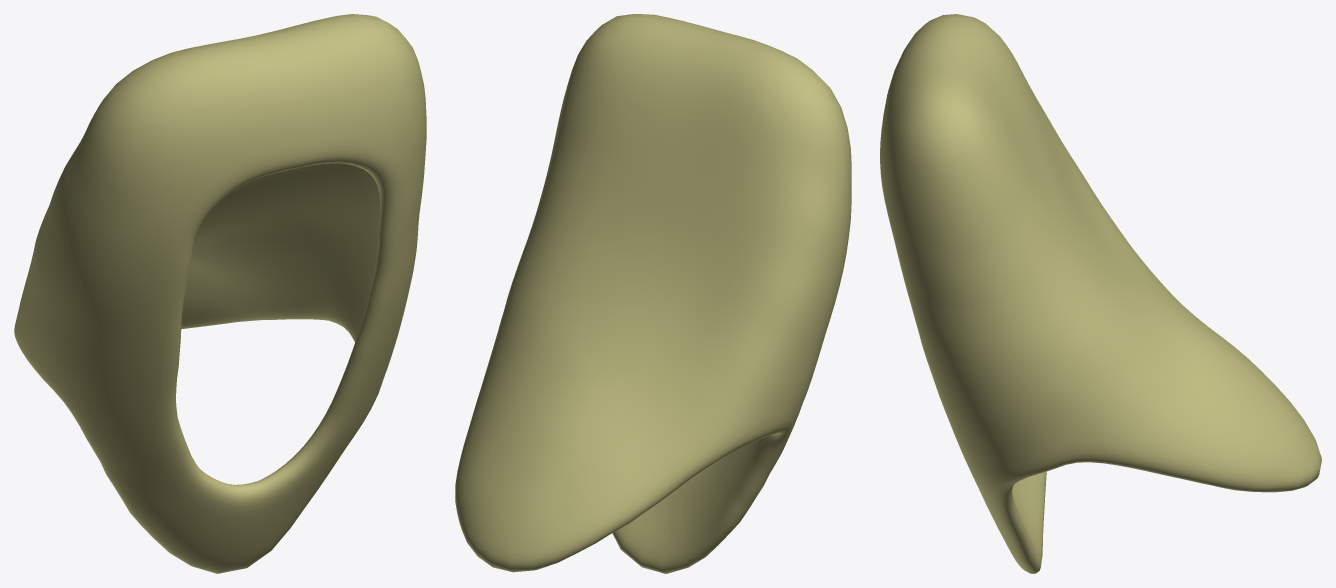
Rendered from BL1_Frame_Classic.001 2.glb.
The picture shows the model from 3 angles, left to right: view 1: azimuth 30°, elevation 25°; view 2: azimuth 150°, elevation 25°; view 3: azimuth 270°, elevation 25°; orthographic projection. The views are drawn at different scales.
Visible parts, largest first — view 1: BL1_Frame_Classic.001; view 2: BL1_Frame_Classic.001; view 3: BL1_Frame_Classic.001.
Boxes of the visible parts, x1,y1,x2,y2 form: BL1_Frame_Classic.001: [14, 14, 426, 573]; BL1_Frame_Classic.001: [455, 14, 851, 573]; BL1_Frame_Classic.001: [880, 14, 1321, 573].
Size of the model in its own units: 0.6465 by 1.02 by 0.8012.
